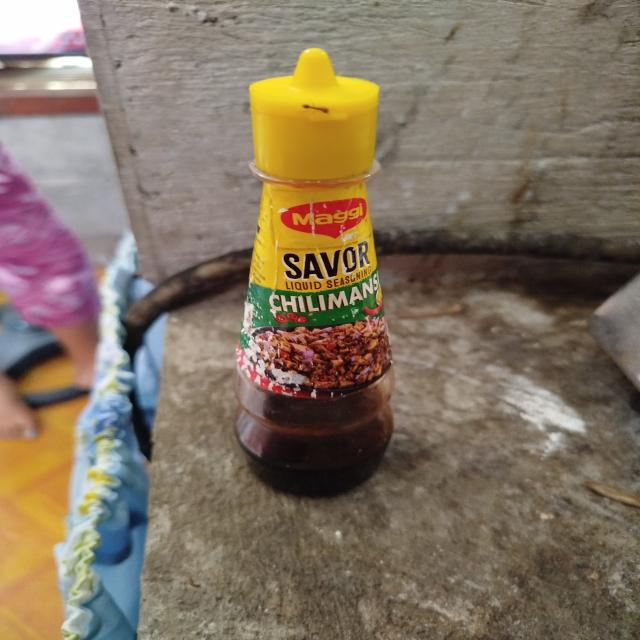plastic: (211, 27, 424, 521)
